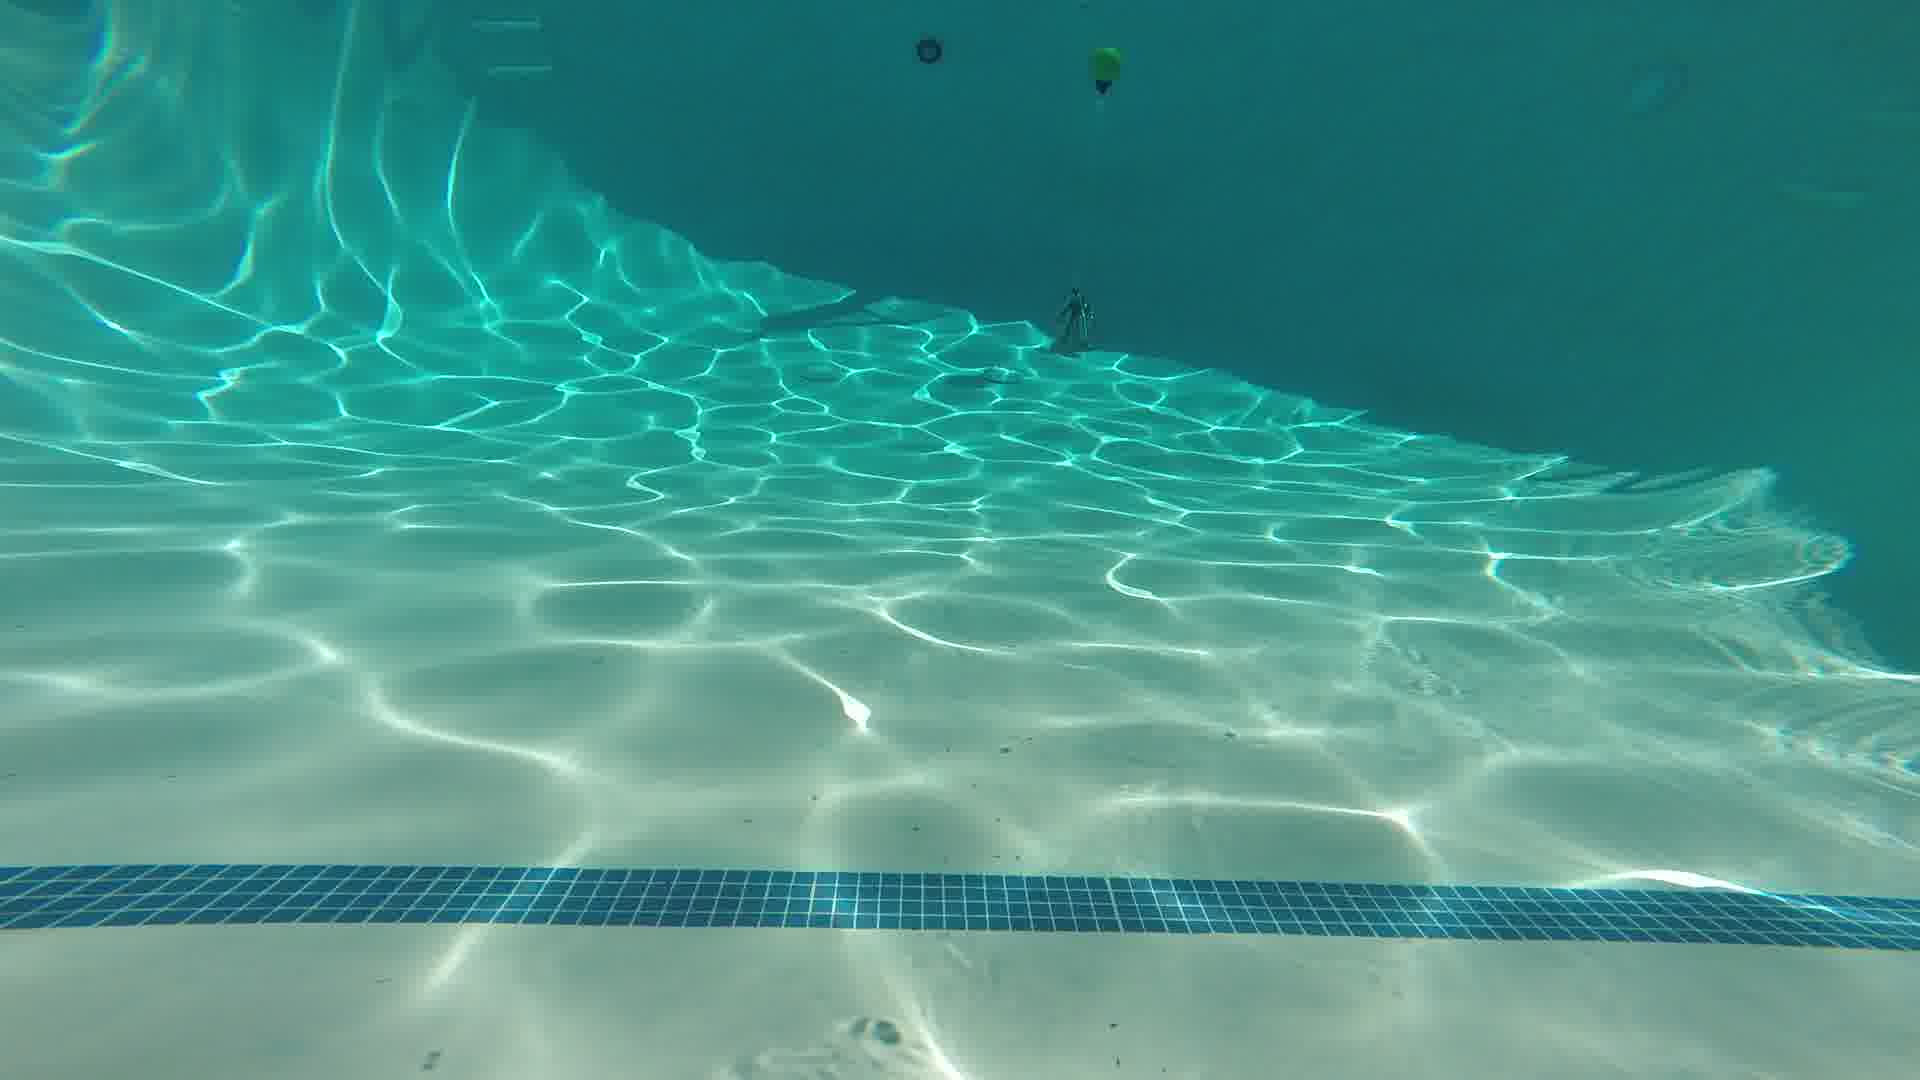yellow buoy: (1084, 40, 1125, 105)
